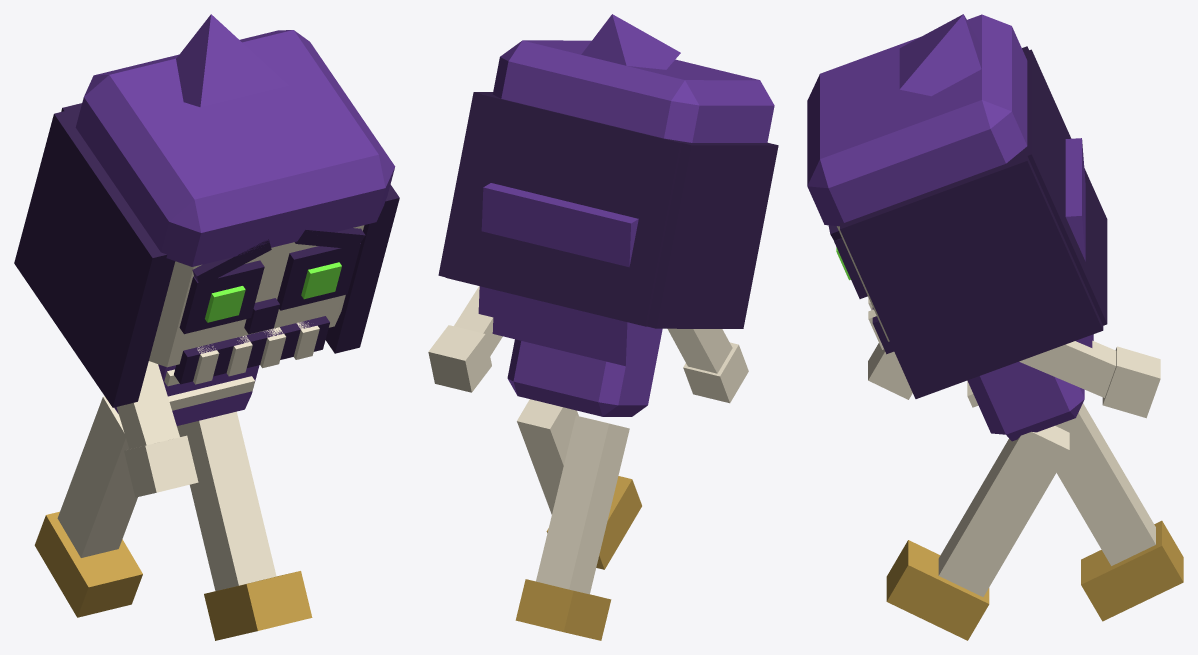
File: scout_r4.glb
3 renders of one model, left to right at view 1: azimuth 30°, elevation 25°; view 2: azimuth 150°, elevation 25°; view 3: azimuth 270°, elevation 25°, orthographic. The views are drawn at different scales.
Visible parts, largest first — view 1: scout_r4_mesh; view 2: scout_r4_mesh; view 3: scout_r4_mesh.
Part boxes in pixels (x1=…): scout_r4_mesh: x1=14, y1=14, x2=399, y2=640; scout_r4_mesh: x1=428, y1=14, x2=778, y2=640; scout_r4_mesh: x1=807, y1=14, x2=1183, y2=640.
Size of the model in its own units: 0.4831 by 1.2 by 0.6705.
1 material, 1 textured.
